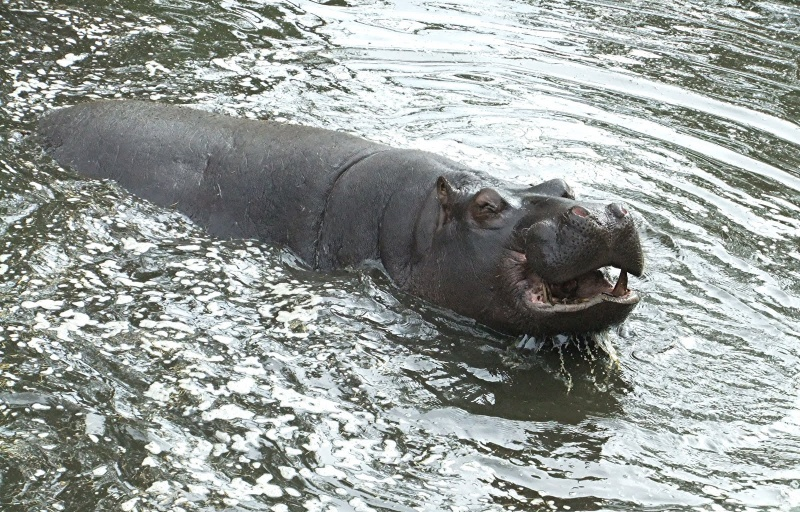hipopotamo: (14, 86, 643, 352)
